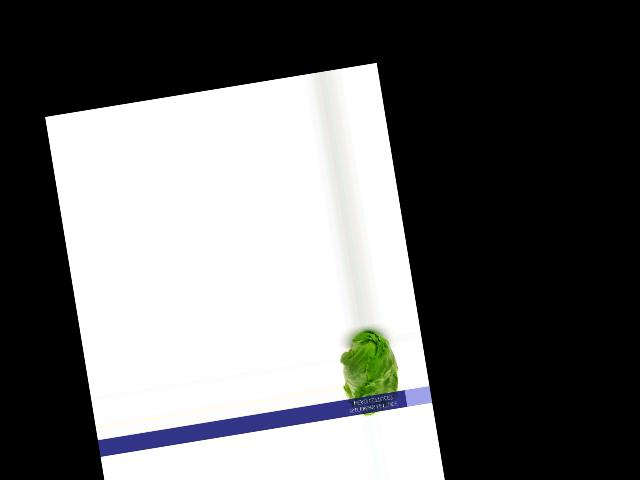lettuce: (334, 323, 402, 419)
